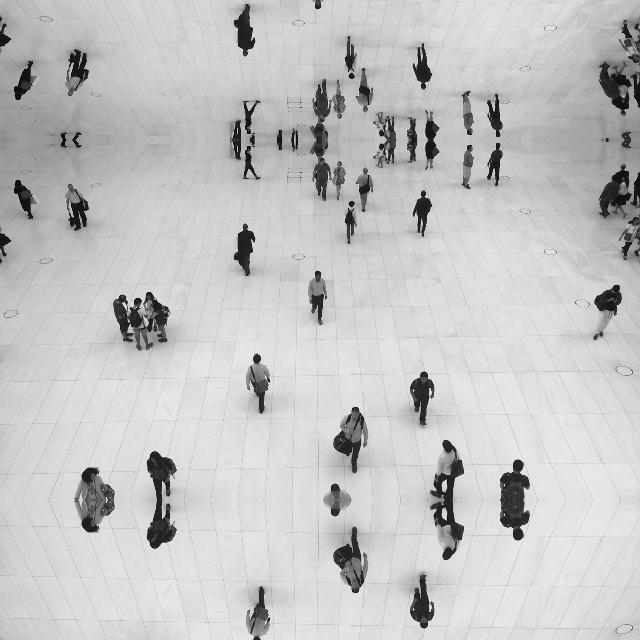person: (339, 406, 369, 474), (430, 440, 464, 500), (339, 526, 369, 594), (430, 500, 464, 560), (146, 450, 178, 500), (146, 500, 178, 550), (594, 284, 622, 340), (245, 354, 271, 414), (126, 297, 154, 351), (409, 370, 435, 426), (409, 574, 435, 630), (245, 586, 271, 640), (74, 466, 114, 500), (74, 500, 114, 534), (500, 460, 530, 500), (500, 500, 530, 540), (233, 223, 255, 277), (233, 3, 255, 57), (64, 183, 88, 231), (64, 49, 88, 97), (308, 270, 328, 326), (112, 294, 134, 342), (598, 62, 622, 105), (618, 216, 640, 262), (618, 18, 640, 64), (598, 176, 622, 218), (412, 190, 432, 238), (412, 42, 432, 90), (354, 167, 374, 213), (354, 67, 374, 113), (150, 299, 170, 343), (612, 60, 632, 104), (312, 157, 332, 200), (612, 177, 632, 220), (13, 180, 34, 220), (13, 60, 34, 100), (312, 80, 332, 122), (487, 142, 503, 186), (143, 292, 159, 336), (487, 94, 503, 138), (242, 146, 262, 180), (242, 100, 262, 134), (344, 201, 358, 245), (344, 35, 358, 79), (332, 161, 346, 201), (332, 79, 346, 119), (462, 144, 474, 190), (462, 90, 474, 136), (323, 484, 353, 501), (323, 499, 353, 516), (0, 226, 12, 264), (0, 16, 12, 54), (310, 140, 328, 164), (310, 116, 328, 140), (425, 140, 439, 170), (425, 110, 439, 140), (373, 143, 387, 169), (373, 111, 387, 137), (610, 164, 630, 182), (610, 98, 630, 116), (631, 170, 640, 209), (631, 70, 640, 109), (383, 140, 397, 164), (383, 116, 397, 140), (228, 140, 242, 160), (228, 120, 242, 140), (407, 140, 418, 162), (407, 118, 418, 140), (634, 218, 640, 258), (634, 22, 640, 62), (308, 0, 328, 9), (60, 140, 82, 148), (60, 132, 82, 140), (291, 140, 299, 152), (620, 140, 632, 148), (291, 128, 299, 140), (620, 132, 632, 140), (276, 140, 284, 150), (276, 130, 284, 140), (249, 140, 255, 148), (249, 132, 255, 140)
